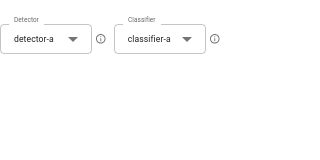
ModelLoader › model list population › shows all detector options when the detector dropdown is opened
Click the dropdown labelled "detector-a": point(34, 39) [14,34,54,44]
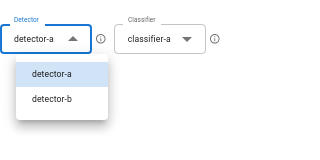
Now the option "detector-a" is shown, box [16,62,108,87]
Now the option "detector-b" is shown, box [32,94,72,104]
